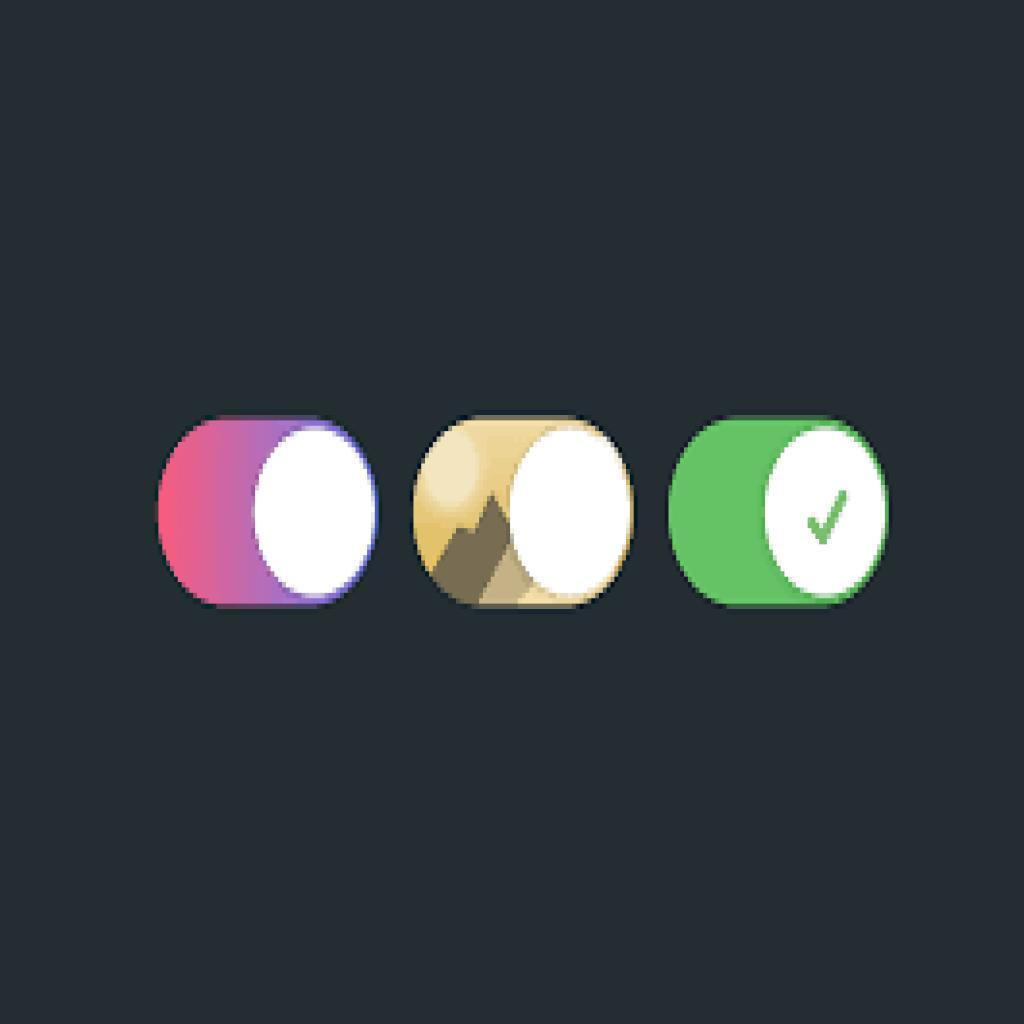switch: (152, 408, 382, 628), (663, 405, 886, 622), (404, 413, 637, 610)
